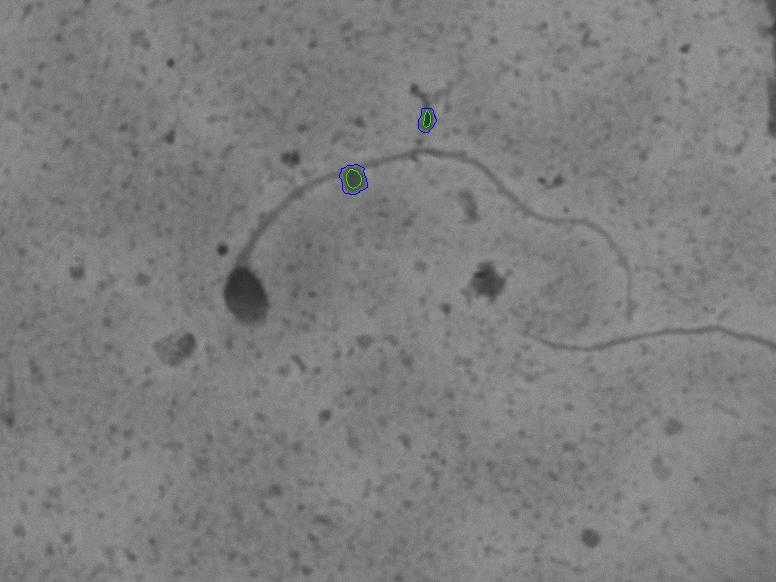Abnormal: (212, 138, 670, 389)
